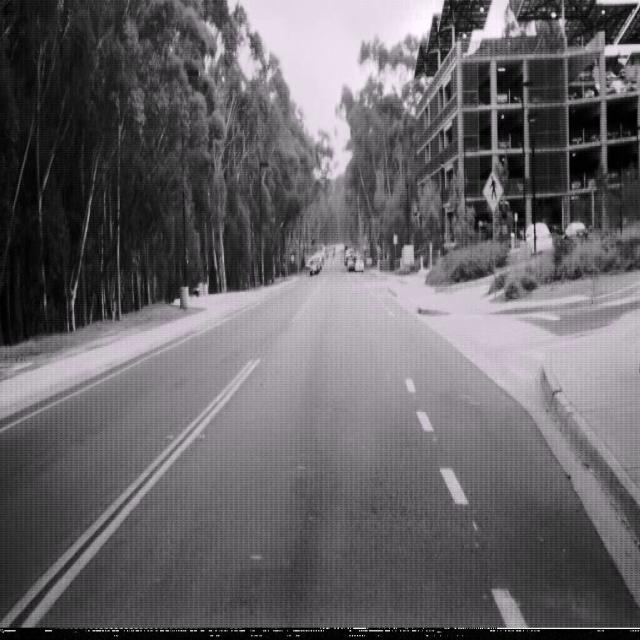pedestrianCrossing: (481, 168, 504, 213)
